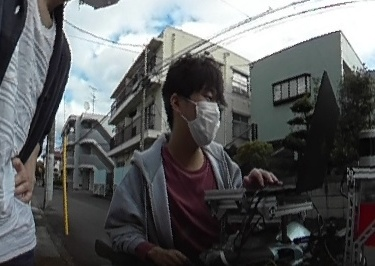person: (118, 53, 262, 266)
